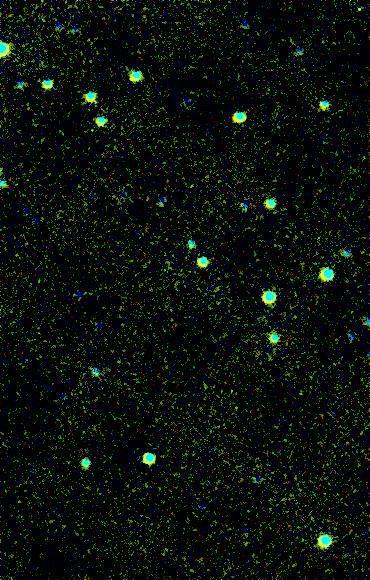star: (345, 0, 370, 25)
